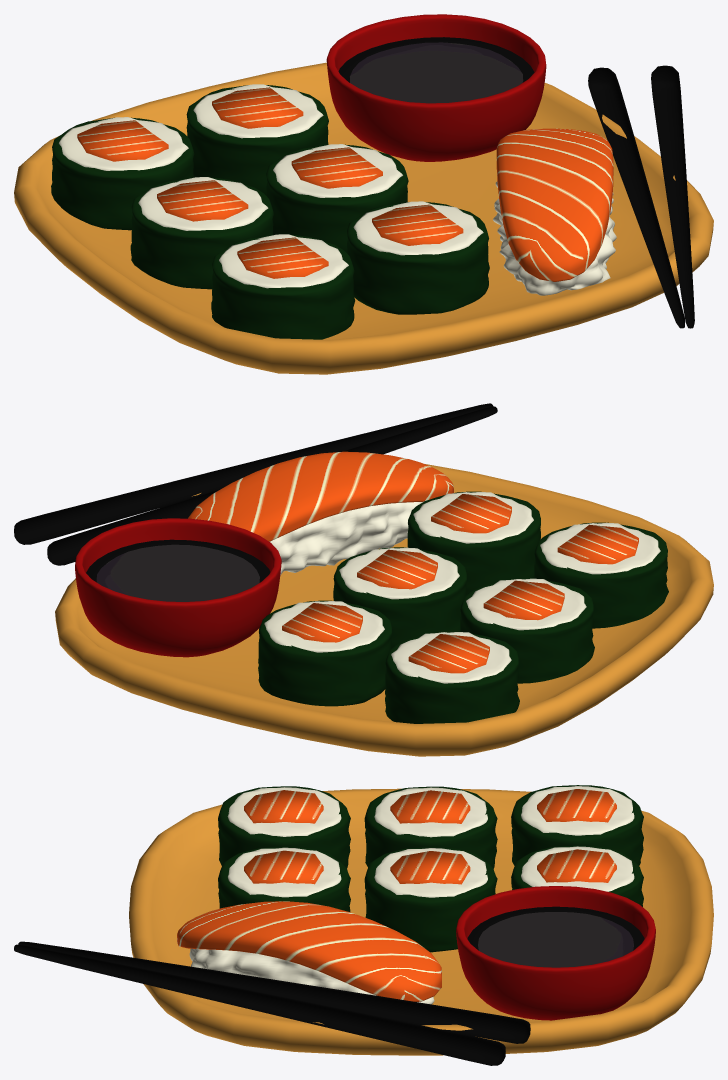
Rendered from Cartoon stylised shushi.glb.
3 views of the same model, one above another, from view 1: azimuth 30°, elevation 25°; view 2: azimuth 150°, elevation 25°; view 3: azimuth 270°, elevation 25° (orthographic). The views are drawn at different scales.
Visible parts, largest first — view 1: plate, cup, stuffed_7, soja, deck_6, deck_5, deck_1, deck_3, chopsticks, deck_2, chopsticks_1, deck_4 (+13 smaller); view 2: plate, cup, stuffed_7, soja, chopsticks_1, deck_2, deck_1, rice_7, deck_5, deck_3, deck_6, deck_4 (+13 smaller); view 3: plate, stuffed_7, cup, chopsticks_1, soja, chopsticks, deck_4, deck_3, deck_5, deck_1, rice_7, deck_6 (+13 smaller).
Part boxes in pixels (box(x1,y1,x2,y2)): plate: box(14, 62, 713, 374); cup: box(326, 14, 546, 161); stuffed_7: box(496, 128, 613, 281); soja: box(338, 37, 534, 103); deck_6: box(347, 202, 489, 314); deck_5: box(211, 235, 355, 339); deck_1: box(51, 117, 194, 230); deck_3: box(130, 177, 273, 289); chopsticks: box(588, 67, 684, 328); deck_2: box(186, 85, 328, 195); chopsticks_1: box(651, 65, 694, 328); deck_4: box(266, 144, 408, 252); plate: box(55, 464, 713, 756); cup: box(75, 518, 281, 657); stuffed_7: box(188, 451, 453, 541); soja: box(86, 539, 270, 601); chopsticks_1: box(14, 403, 493, 544); deck_2: box(258, 600, 391, 706); deck_1: box(385, 631, 519, 723); rice_7: box(269, 502, 422, 575); deck_5: box(534, 522, 668, 628); deck_3: box(460, 578, 594, 683); deck_6: box(407, 491, 540, 594); deck_4: box(333, 547, 466, 647); plate: box(129, 788, 713, 1055); stuffed_7: box(177, 901, 441, 1001); cup: box(456, 886, 655, 1020); chopsticks_1: box(14, 944, 505, 1065); soja: box(467, 906, 644, 967); chopsticks: box(18, 941, 530, 1043); deck_4: box(364, 847, 497, 952); deck_3: box(364, 786, 497, 868); deck_5: box(218, 786, 350, 867); deck_1: box(511, 785, 643, 865); rice_7: box(189, 948, 434, 1004); deck_6: box(218, 847, 350, 911).
Bounding box in the file's own units: 4.09 × 0.6872 × 4.29.
Materials: 1 (1 with a texture image).
